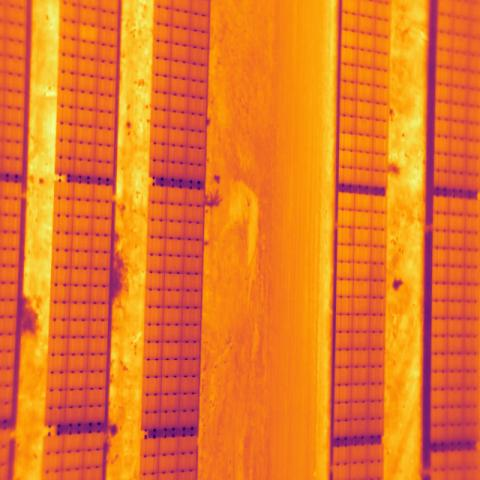fault: (78, 23, 100, 44)
